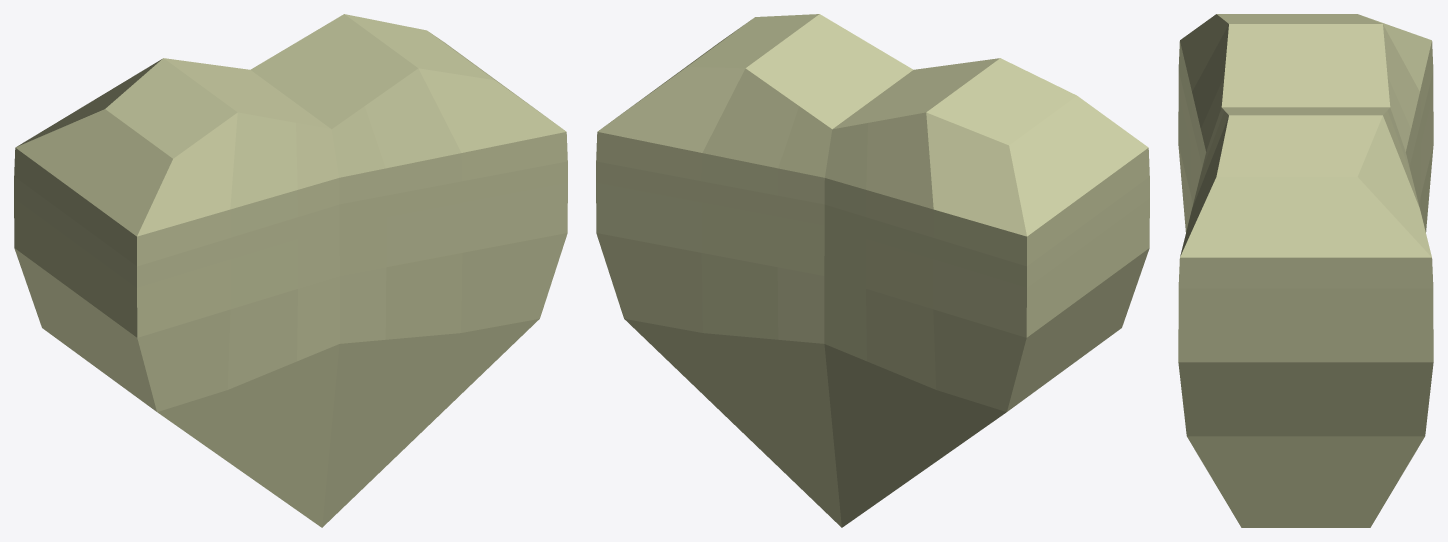
Rendered from heart.fbx.
The picture shows the model from 3 angles, left to right: view 1: azimuth 30°, elevation 25°; view 2: azimuth 150°, elevation 25°; view 3: azimuth 270°, elevation 25°; orthographic projection. The views are drawn at different scales.
Parts seen in each view (by area): view 1: Cube; view 2: Cube; view 3: Cube.
Boxes of the visible parts, <box> form: Cube: <box>14,14,567,527</box>; Cube: <box>596,14,1149,527</box>; Cube: <box>1178,14,1433,527</box>.
Size of the model in its own units: 490 by 480 by 242.
